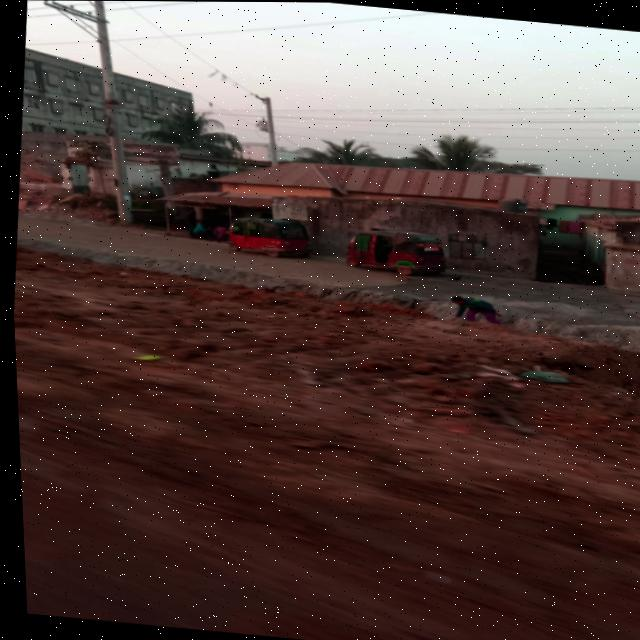cng: (333, 220, 484, 313), (182, 196, 331, 286)
